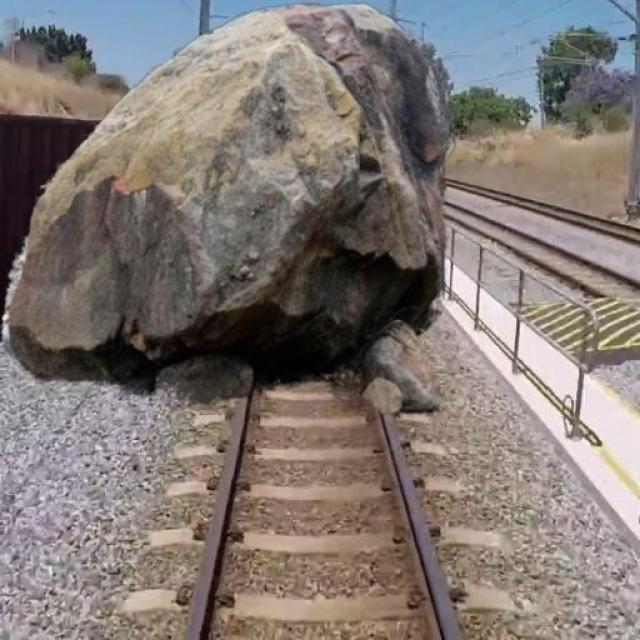Stone: (5, 4, 464, 411)
